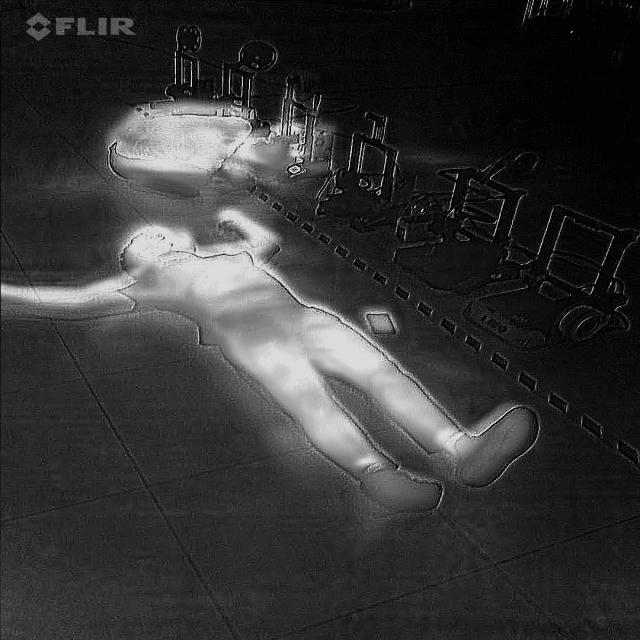Victim: (2, 210, 546, 518), (101, 96, 292, 200)
